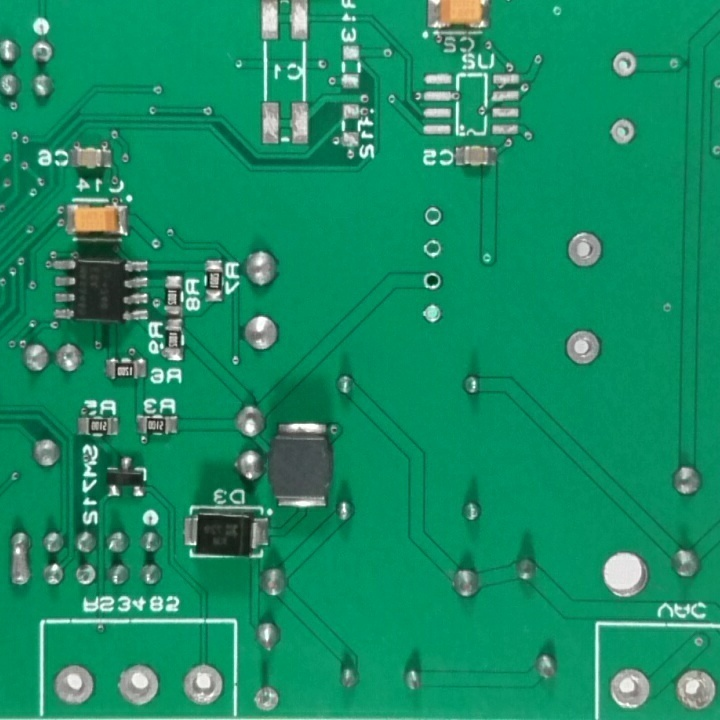F: (111, 660, 161, 709), (670, 663, 719, 712), (51, 659, 99, 709), (603, 662, 653, 710), (181, 660, 226, 711), (561, 229, 607, 272), (559, 328, 605, 370), (607, 116, 641, 149), (610, 45, 640, 81), (250, 684, 284, 715), (30, 38, 56, 67), (72, 561, 98, 590), (419, 204, 446, 231), (419, 300, 445, 326), (418, 269, 446, 293), (421, 238, 446, 262)
P: (7, 528, 35, 592)
